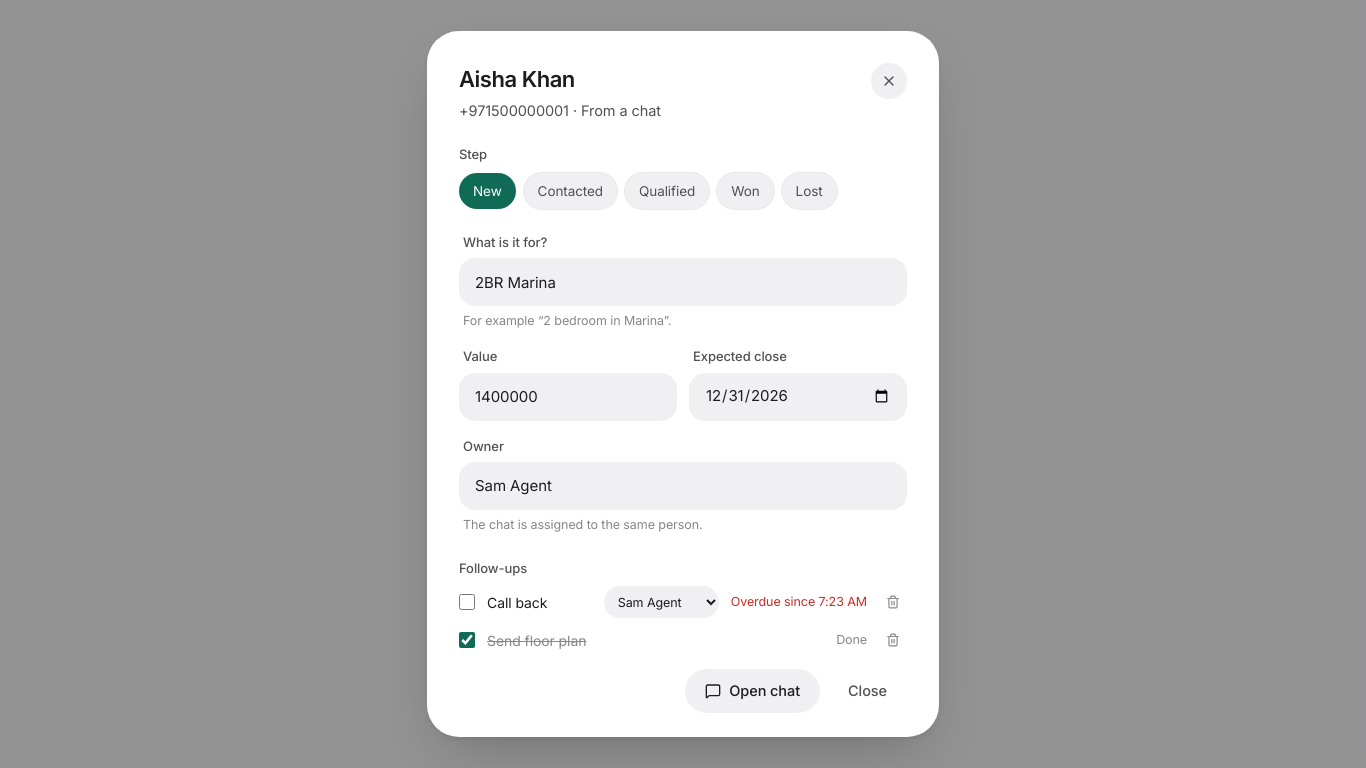
Scenario: a lead's sheet › shows why a change failed
The width and height of the screenshot is (1366, 768).
Expected: the field showing "2BR Marina" is shown, top-left (459, 258), bottom-right (907, 306)
Replace the text in the number field labelled "Value" with "5": (568, 397) top-left (459, 373), bottom-right (677, 421)
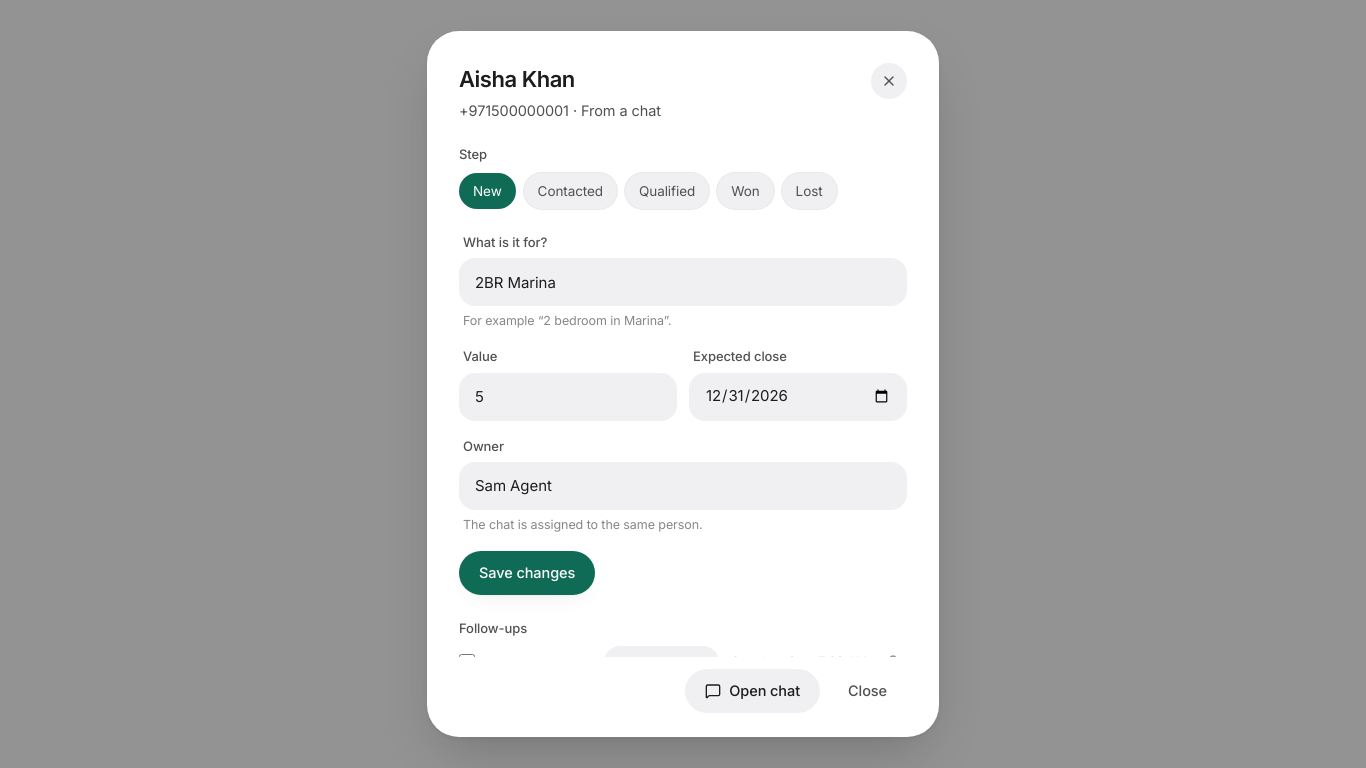
Click the button "Save changes": (527, 573) top-left (459, 551), bottom-right (595, 595)
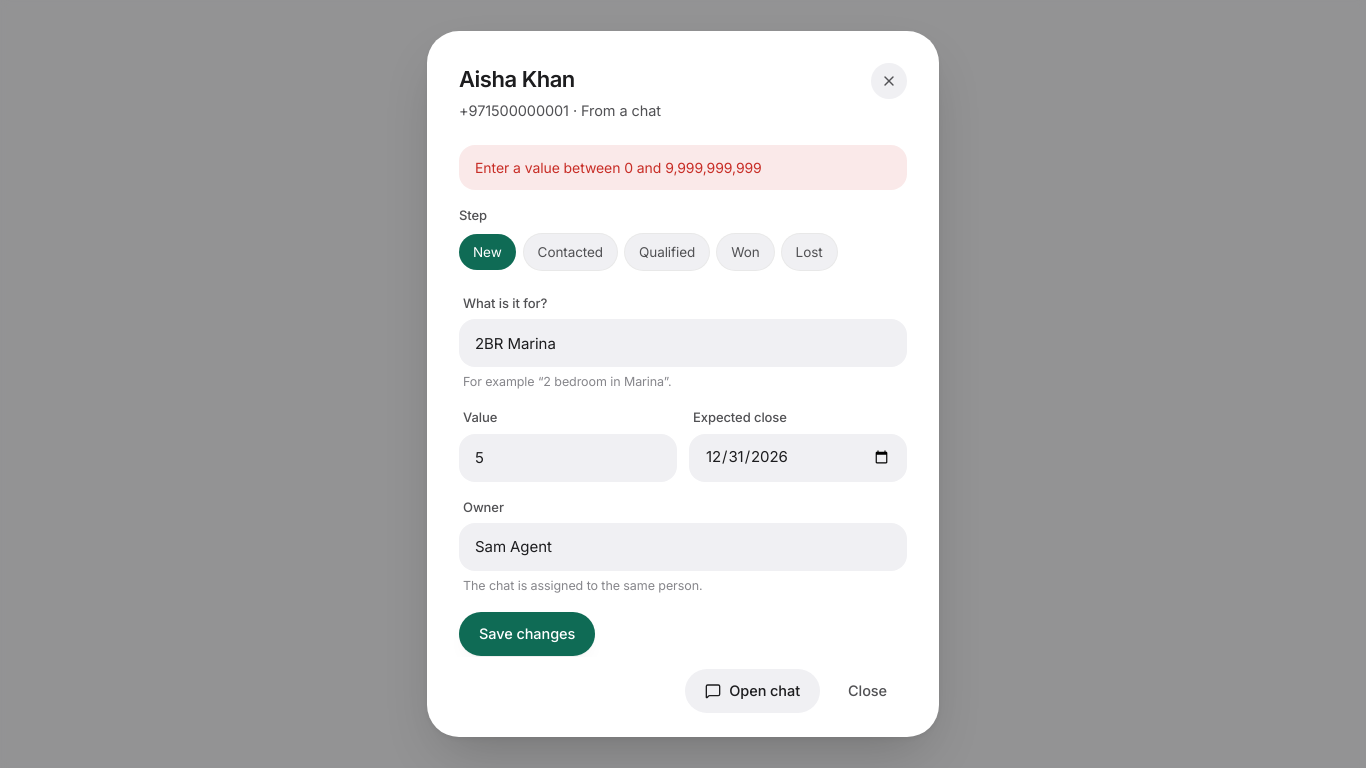
Result: the message shows "Enter a value between" at top-left (475, 160), bottom-right (762, 176)
